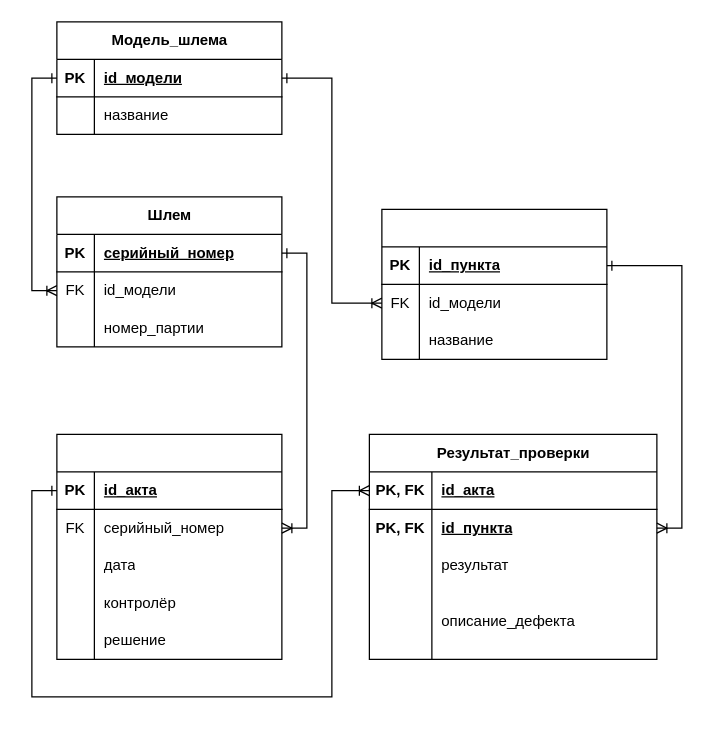
Some shapes in this 715 by 730 pixel diagram are drawn without their labels. The box of each missing label's shape, as (x1, y1, x2, y2) in pixels:
Акт_контроля: (56, 433, 282, 659)
Пункт_проверки: (381, 208, 607, 359)
